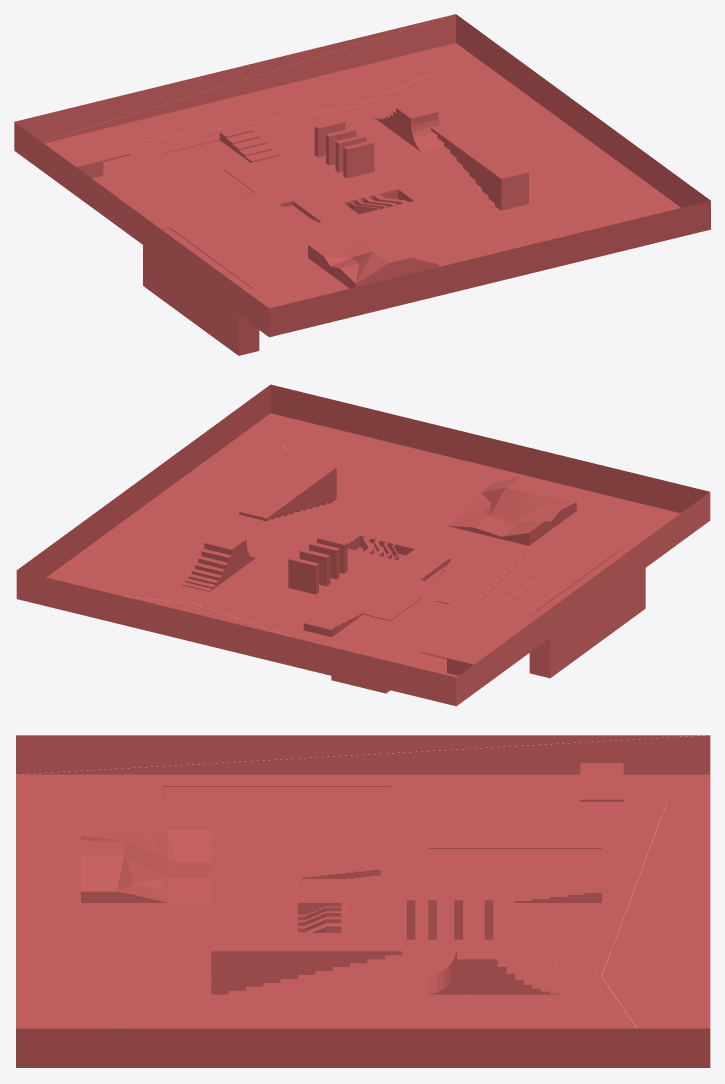
Rendered from test_map.glb.
3 renders of one model, top to bottom at view 1: azimuth 30°, elevation 25°; view 2: azimuth 150°, elevation 25°; view 3: azimuth 270°, elevation 25°, orthographic. The views are drawn at different scales.
Parts seen in each view (by area): view 1: test_map_col; view 2: test_map_col; view 3: test_map_col.
Boxes of the visible parts, x1,y1,x2,y2 form: test_map_col: [14, 14, 710, 355]; test_map_col: [16, 384, 710, 706]; test_map_col: [16, 735, 710, 1067].
Bounding box in the file's own units: 16.1 × 3.1 × 16.06.
